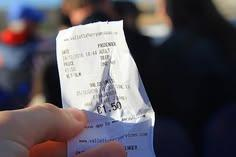receipt-in-hand: (56, 21, 154, 156)
